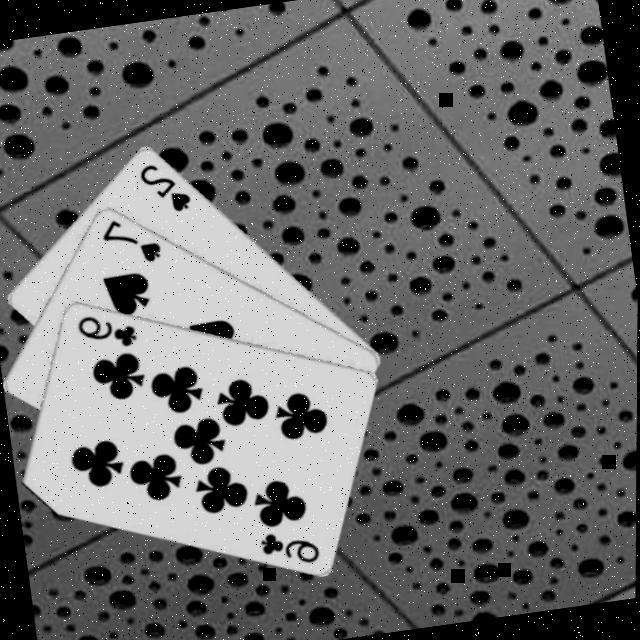2S: (136, 154, 198, 218)
7S: (99, 208, 168, 270)
9C: (75, 304, 144, 354), (258, 522, 327, 572)
